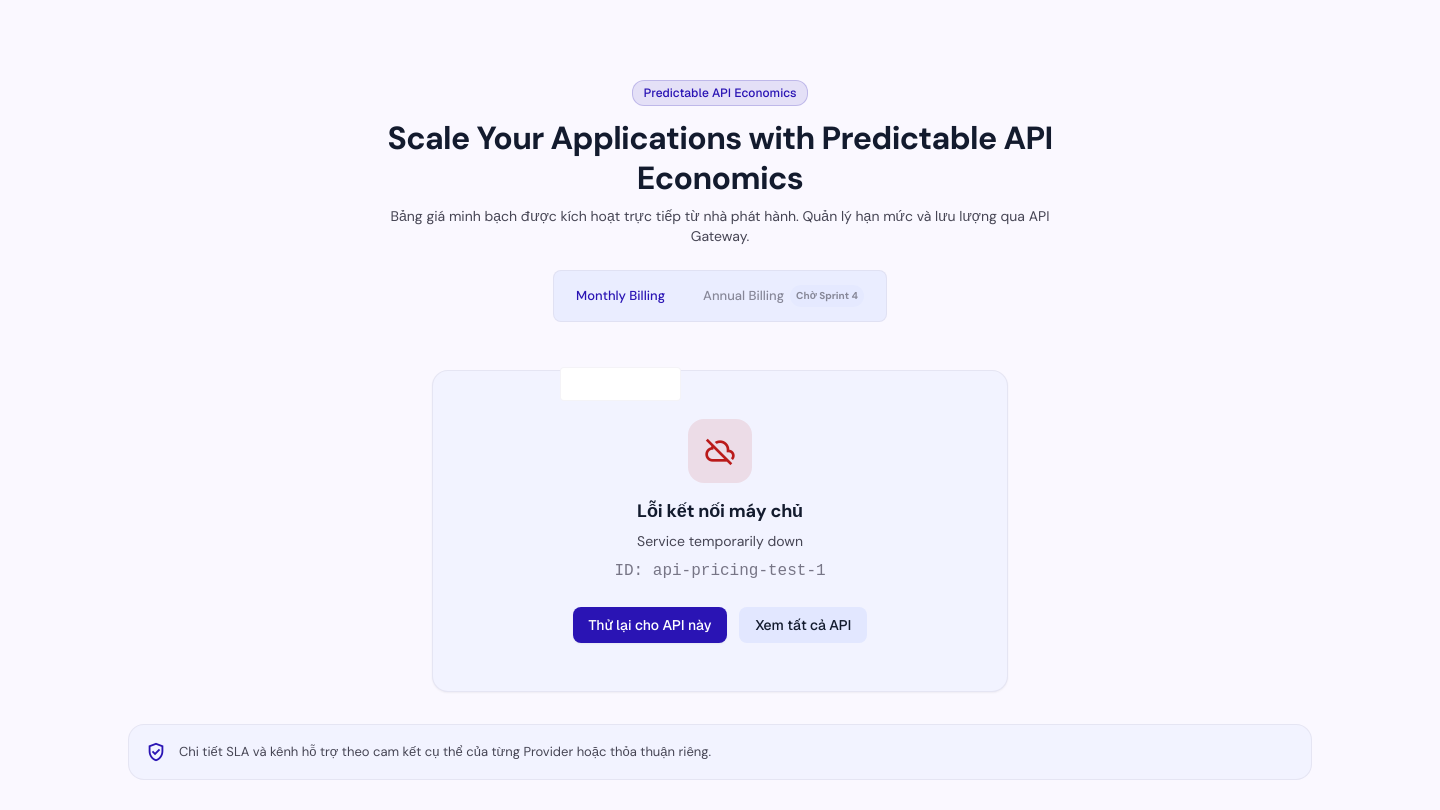
PricingPage - Audit Remediation & Price Immutability › recovers from 500 server error on retry: first 500 -> retry -> 200 -> pricing visible and error hidden
This screenshot has width=1440, height=810.
Check: the heading "Lỗi kết nối máy chủ" is shown, box [637, 499, 803, 523]
Check: the text "Cloud Payment Engine" is not shown
// Click retry
Click the button "Thử lại cho API này": (650, 625) [572, 607, 727, 643]
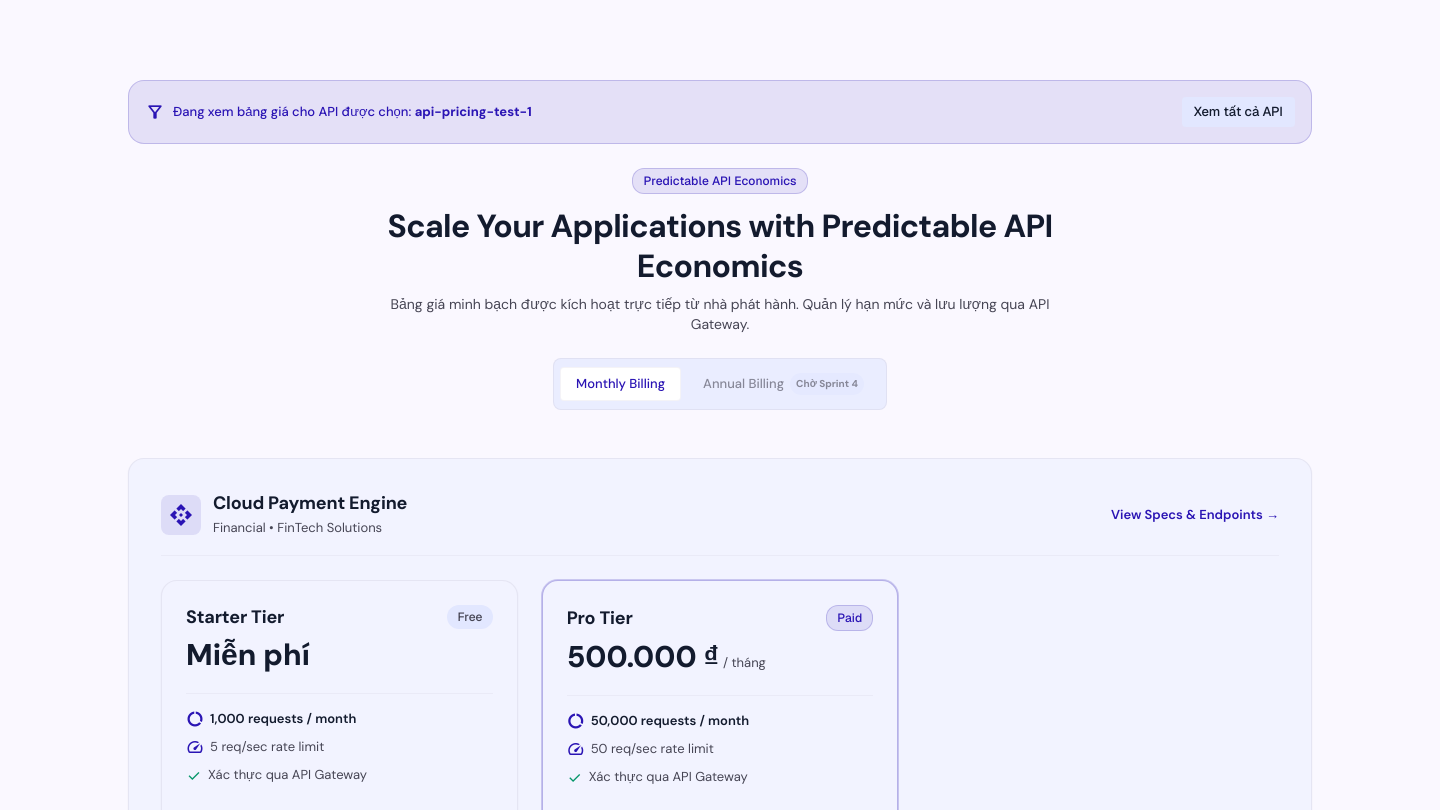
Check: the heading "Cloud Payment Engine" is shown, box [213, 491, 407, 515]
Check: the text "500.000 ₫" is shown, box [567, 639, 719, 675]
Check: the heading "Lỗi kết nối máy chủ" is gone
